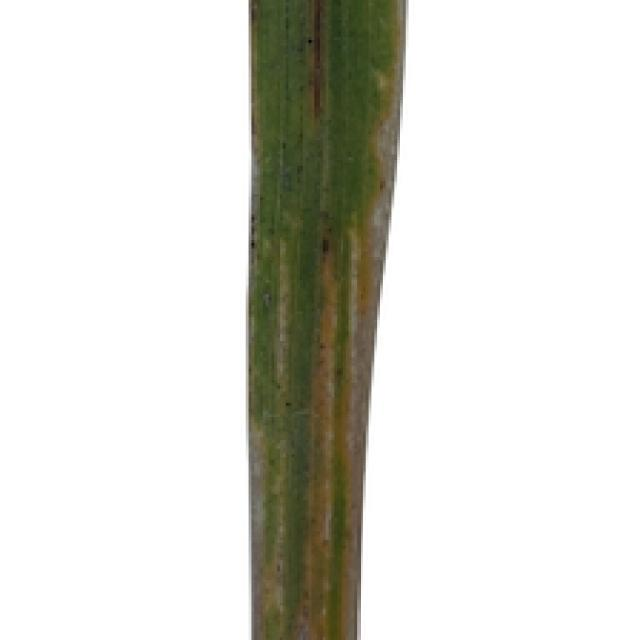Rice___Bacterial_Leaf_Blight: (245, 0, 409, 637)
